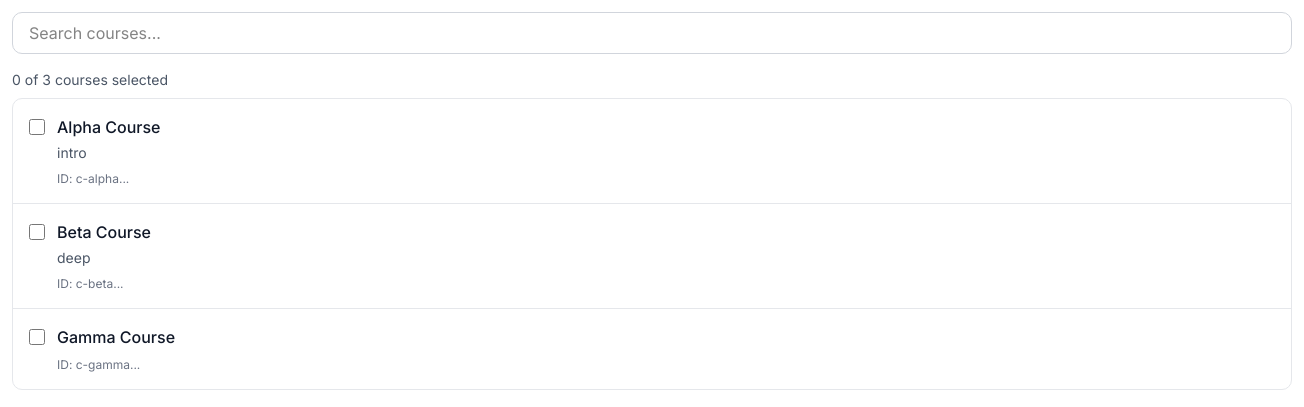
FeaturedCourseSelector › shows an empty state when no courses match the search
Type "zzz-no-match" into the field with placeholder "Search courses...".
click(652, 33); type("zzz-no-match")  # box [12,12,1292,54]
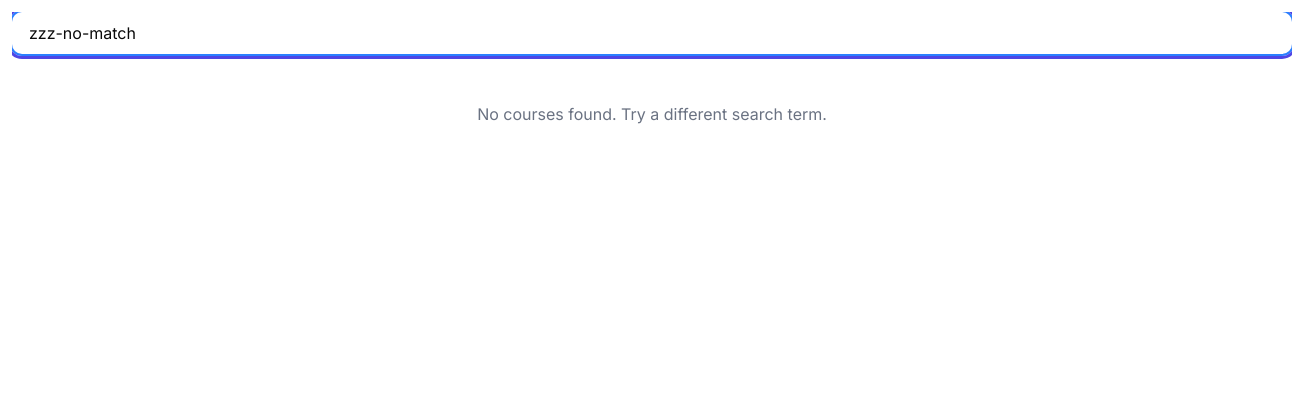
Check: the text "No courses found. Try a different search term." is shown, box [477,104,827,124]
